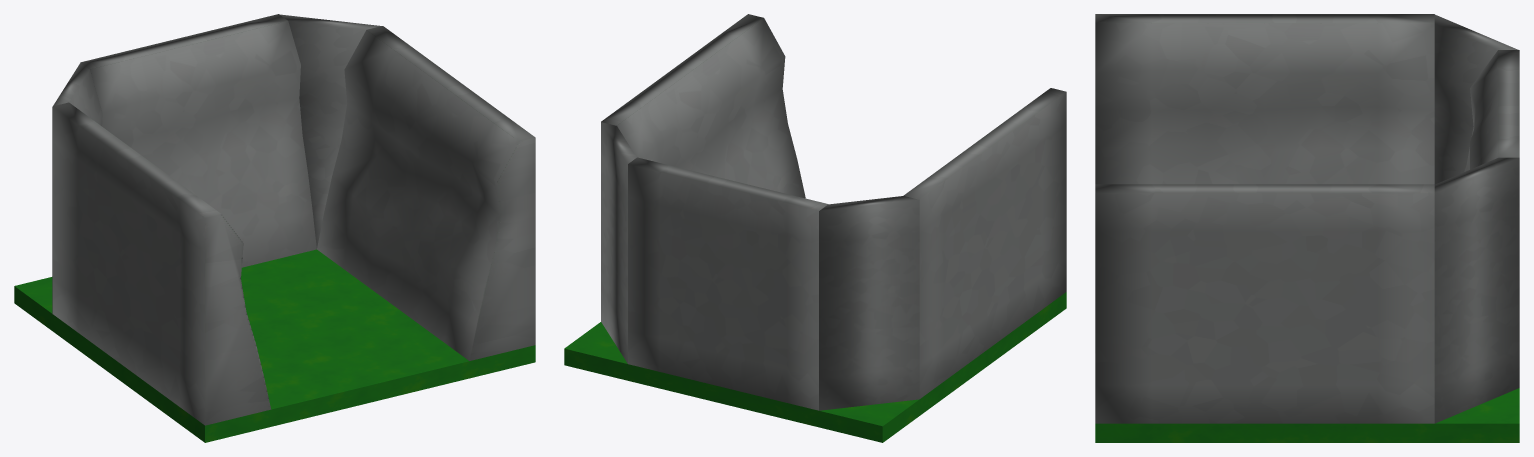
The model's file is entranceRoom.glb.
3 views of the same model, side by side, from view 1: azimuth 30°, elevation 25°; view 2: azimuth 150°, elevation 25°; view 3: azimuth 270°, elevation 25° (orthographic). The views are drawn at different scales.
Visible parts, largest first — view 1: Wall.001, Wall.002, WallShort.001, Floor.001, CornerExt.001, CornerExt.002; view 2: WallShort.001, Wall.002, Wall.001, CornerExt.002, Floor.001, CornerExt.001; view 3: Wall.001, Wall.002, CornerExt.001, Floor.001, CornerExt.002, WallShort.001.
Part boxes in pixels (x1,y1,x2,y2): Wall.001: (317,26,535,360); Wall.002: (52,102,271,425); WallShort.001: (80,14,316,267); Floor.001: (14,249,535,442); CornerExt.001: (279,14,381,248); CornerExt.002: (52,63,102,313); WallShort.001: (628,157,828,410); Wall.002: (903,88,1066,398); Wall.001: (601,14,805,198); CornerExt.002: (819,196,919,410); Floor.001: (564,292,1066,442); CornerExt.001: (601,122,636,363); Wall.001: (1095,184,1434,423); Wall.002: (1095,14,1434,184); CornerExt.001: (1434,157,1519,423); Floor.001: (1095,388,1519,442); CornerExt.002: (1434,14,1518,184); WallShort.001: (1464,50,1519,171).
Size of the model in its own units: 10 by 6.5 by 10.
Materials: 2 (2 with a texture image).
